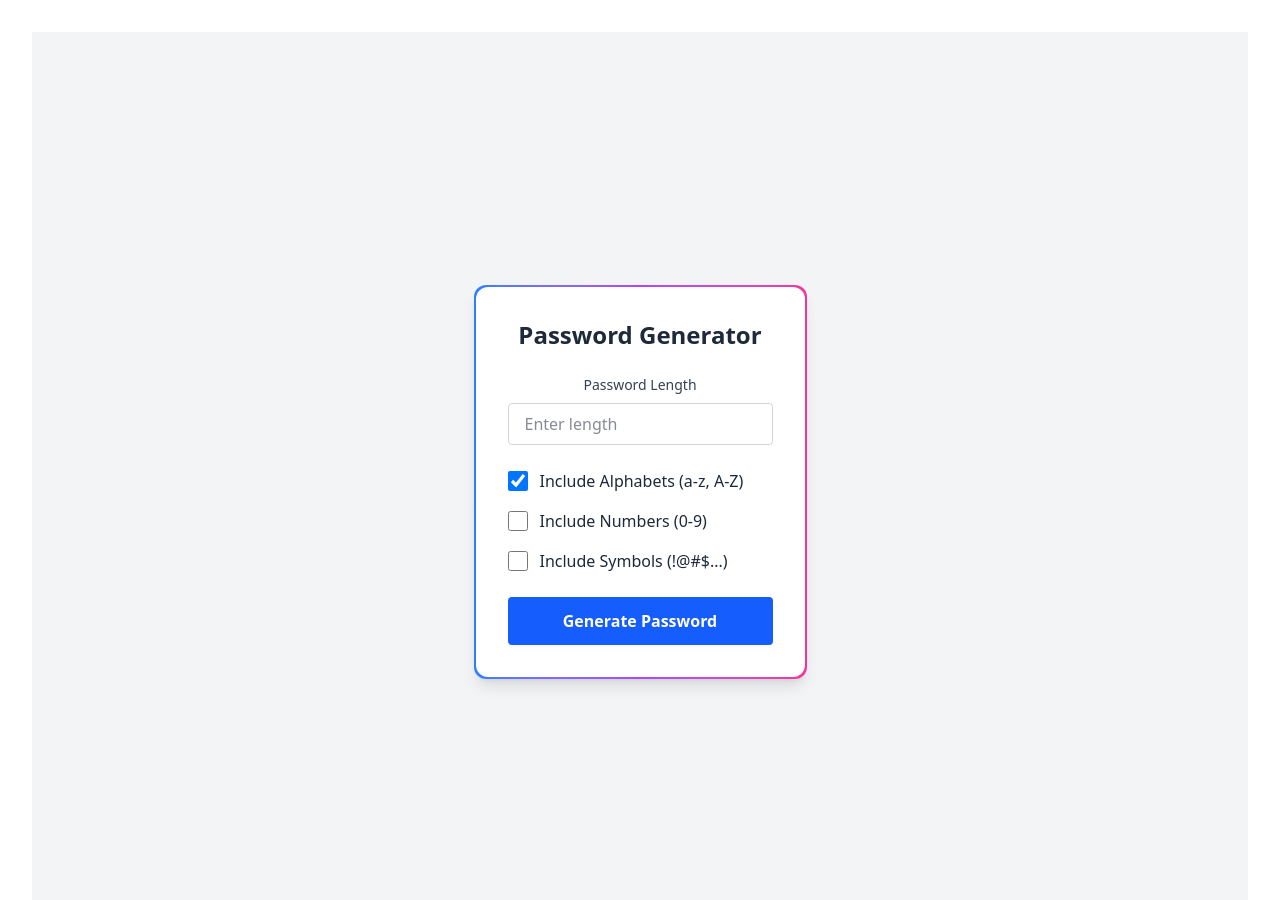
Scenario: Password Component › shows error for invalid password length
This screenshot has width=1280, height=900.
In the number field labelled "Password Length": (640, 424) [508, 403, 772, 445], type "-5"
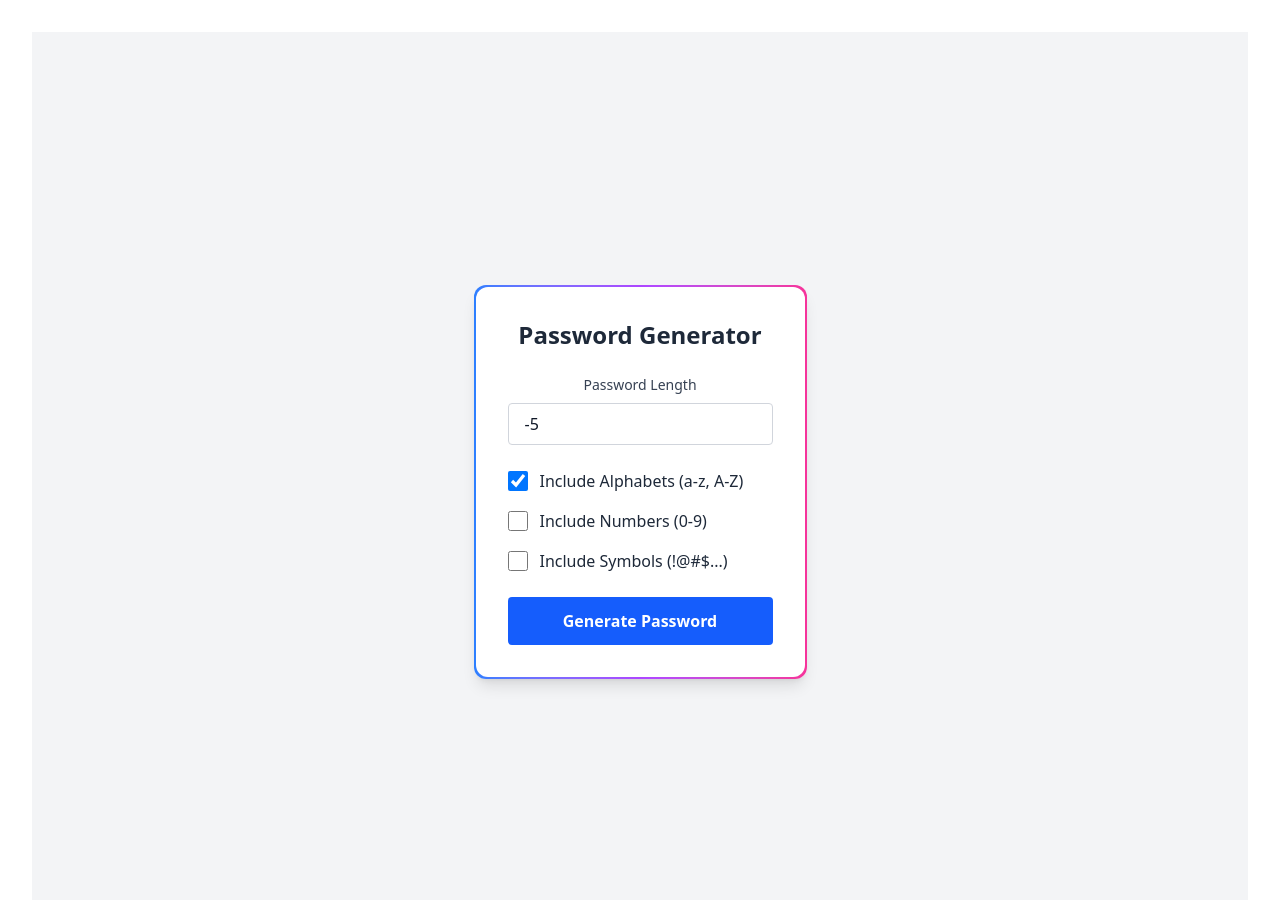
Click the button "Generate Password": (640, 621) [508, 597, 772, 645]
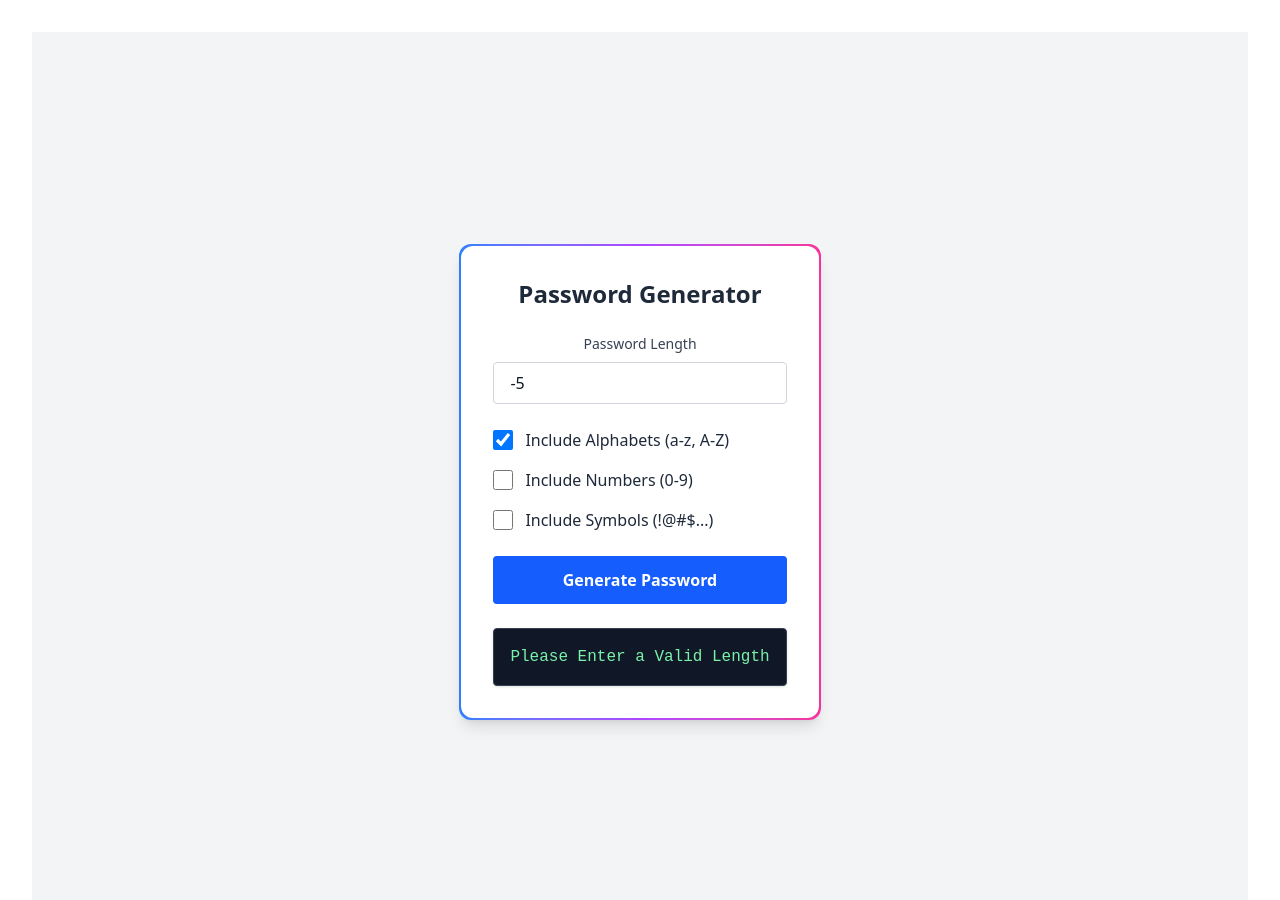
Result: the text "Please Enter a Valid Length" is shown at [493, 628, 787, 686]
